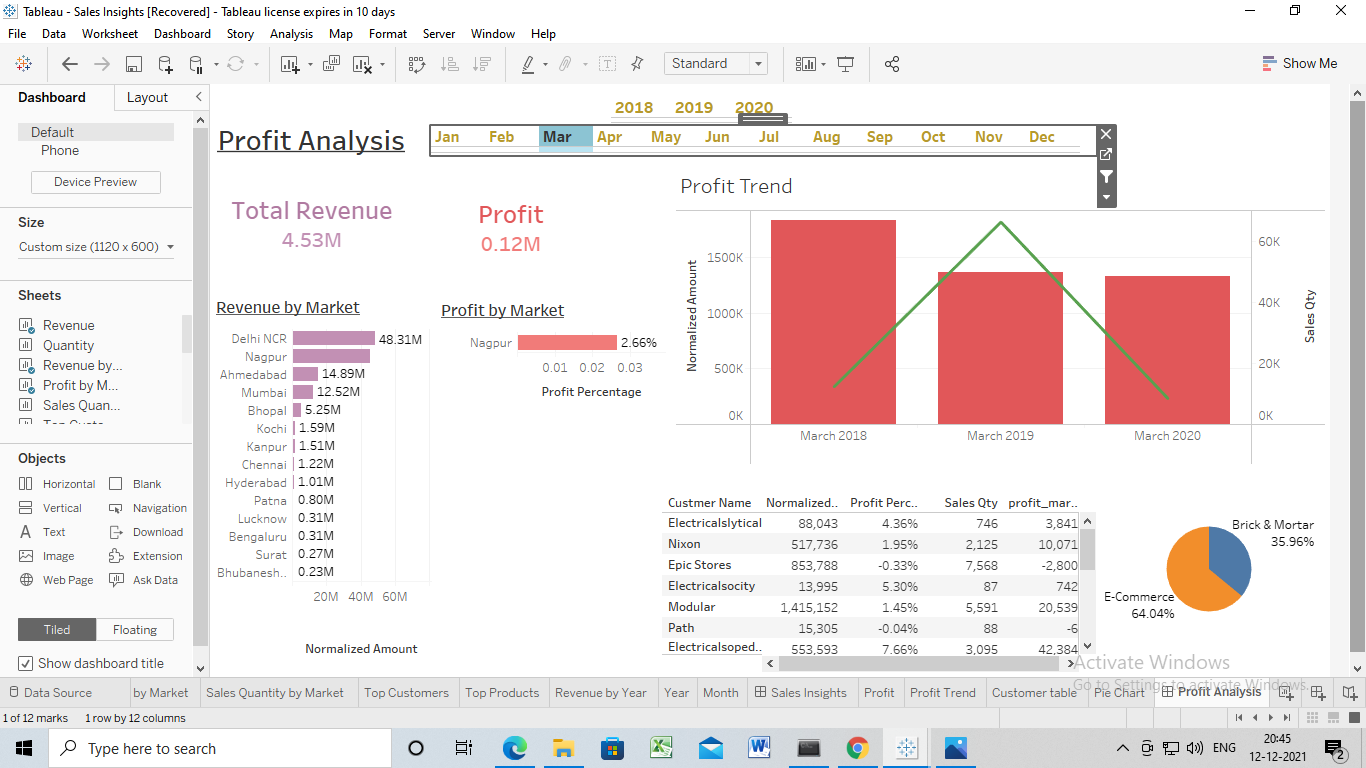

What the dashboard file says about the page in this screenshot:
{"tool":"tableau","page":{"name":"Profit Analysis","canvas":[1120,600],"ordinal":0},"visuals":[{"type":"title","box":[5,13,195,84]},{"type":"worksheet","title":"Year","mark":"Automatic","cols":["cy_date"],"box":[401.2,13,245.4,29]},{"type":"worksheet","title":"Month","mark":"Automatic","cols":["cy_date"],"box":[220.9,42,664.9,29]},{"type":"legend","title":"Profit Trend","param":"[federated.1wrotgx1kiv2ew12km91h0g3ou01].[none:markets_name:nk]","box":[970,62,140,58]},{"type":"worksheet","title":"Profit Trend","mark":"Bar","rows":["Calculation_901001447928795136","sales_qty"],"cols":["cy_date"],"box":[466,83,650,298]},{"type":"worksheet","title":"Revenue","mark":"Automatic","box":[12.2,108,184.3,61]},{"type":"worksheet","title":"Profit","mark":"Automatic","box":[261,112,102,68]},{"type":"worksheet","title":"Revenue by Market","mark":"Automatic","rows":["markets_name"],"cols":["Calculation_901001447928795136"],"box":[2,208,219.9,381]},{"type":"worksheet","title":"Profit by Market","mark":"Automatic","rows":["markets_name"],"cols":["Calculation_541839377881427968"],"box":[227,211,229,365]},{"type":"worksheet","title":"Pie Chart","mark":"Pie","box":[893,400,212,170]},{"type":"worksheet","title":"Customer table","mark":"Automatic","rows":["custmer_name"],"box":[452,408,434,180]}]}

Visuals, with their boxes on the page's 1120x600 design canvas (x1, y1, x2, y2). These are canvas units, not pixel positions in the 1366x768 screenshot, which may show the page scaled, cropped or inside an application window:
title: x1=5 y1=13 x2=200 y2=97
"Year" worksheet: x1=401 y1=13 x2=647 y2=42
"Month" worksheet: x1=221 y1=42 x2=886 y2=71
"Profit Trend" legend: x1=970 y1=62 x2=1110 y2=120
"Profit Trend" worksheet (Bar marks): x1=466 y1=83 x2=1116 y2=381
"Revenue" worksheet: x1=12 y1=108 x2=196 y2=169
"Profit" worksheet: x1=261 y1=112 x2=363 y2=180
"Revenue by Market" worksheet: x1=2 y1=208 x2=222 y2=589
"Profit by Market" worksheet: x1=227 y1=211 x2=456 y2=576
"Pie Chart" worksheet (Pie marks): x1=893 y1=400 x2=1105 y2=570
"Customer table" worksheet: x1=452 y1=408 x2=886 y2=588
